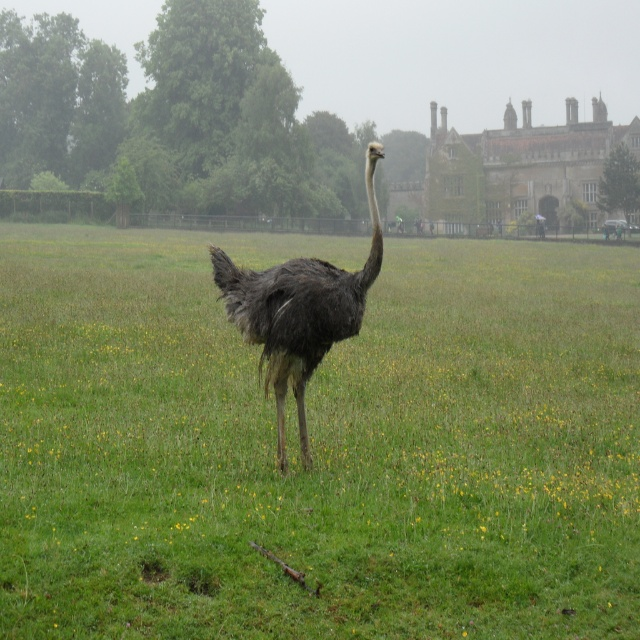Ostrich: (210, 135, 386, 474)
